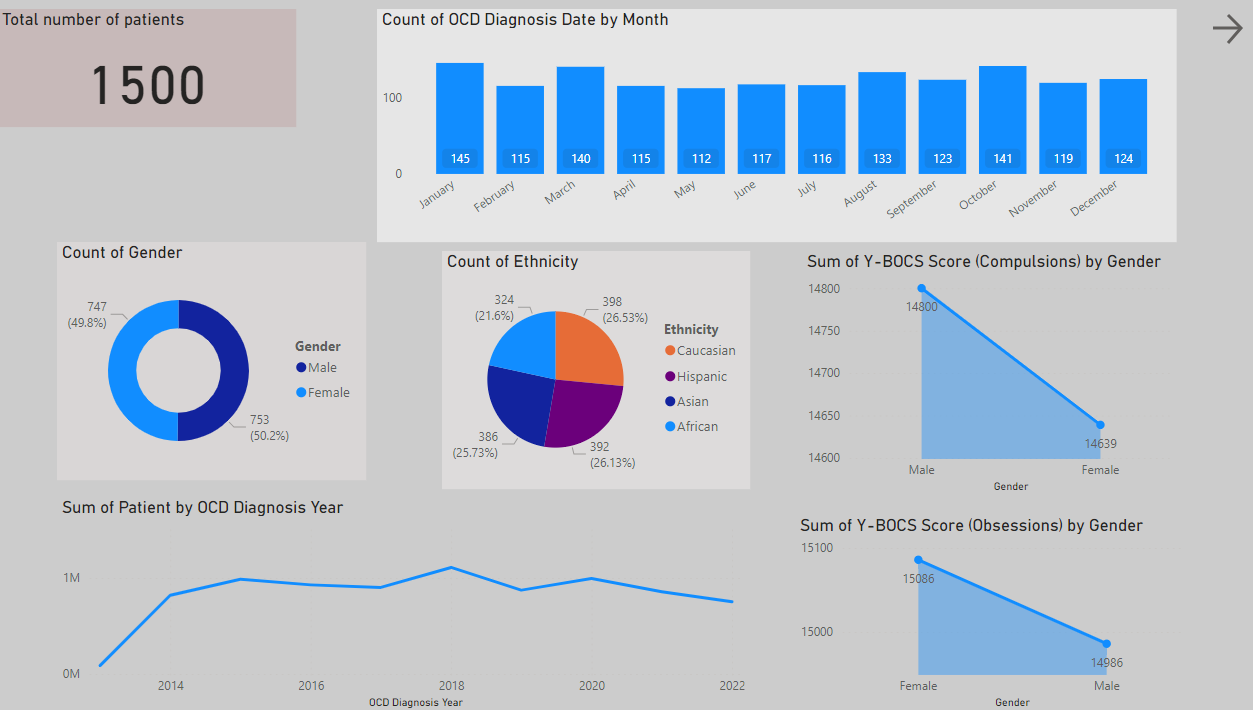

This screenshot's page, from the dashboard's own definition file:
{"tool":"powerbi","page":{"name":"EDA I - II","canvas":[1280,720],"ordinal":0},"visuals":[{"type":"lineChart","title":"Sum of Patient by OCD Diagnosis Year","fields":{"Y":["Sum(ocd_patient_dataset.Patient ID)"],"Category":["ocd_patient_dataset.OCD Diagnosis Year"]},"box":[10,504.6,697.5,215.8],"z":0},{"type":"donutChart","title":"Count of Gender","fields":{"Category":["ocd_patient_dataset.Gender"],"Y":["CountNonNull(ocd_patient_dataset.Gender)"]},"box":[10,258.8,308.8,237.8],"z":1},{"type":"pieChart","title":"Count of Ethnicity","fields":{"Category":["ocd_patient_dataset.Ethnicity"],"Y":["CountNonNull(ocd_patient_dataset.Ethnicity)"]},"box":[454.6,258.8,307.8,237.8],"z":2},{"type":"card","title":"Total number of patients","fields":{"Values":["CountNonNull(ocd_patient_dataset.Patient ID)"]},"box":[10,17,298.8,117.9],"z":3},{"type":"clusteredColumnChart","fields":{"Category":["ocd_patient_dataset (2).OCD Diagnosis Date.Variation.Date Hierarchy.Month"],"Y":["CountNonNull(ocd_patient_dataset (2).OCD Diagnosis Date)"]},"box":[389.7,17,799.4,232.8],"z":4},{"type":"areaChart","fields":{"Category":["ocd_patient_dataset.Gender"],"Y":["Sum(ocd_patient_dataset.Y-BOCS Score (Compulsions))"]},"box":[814.4,258.8,374.7,245.8],"z":5},{"type":"areaChart","fields":{"Y":["Sum(ocd_patient_dataset (2).Y-BOCS Score (Obsessions))"],"Category":["ocd_patient_dataset (2).Gender"]},"box":[807.4,522.6,391.7,197.8],"z":6},{"type":"actionButton","box":[1219,17,54,40],"z":7}]}

Visuals, with their boxes in screenshot pixels (x1, y1, x2, y2), scaled from the page's 1280x720 canvas onto the 1253x710 screenshot:
"Sum of Patient by OCD Diagnosis Year" lineChart: [10,498,693,709]
"Count of Gender" donutChart: [10,255,312,490]
"Count of Ethnicity" pieChart: [445,255,746,490]
"Total number of patients" card: [10,17,302,133]
clusteredColumnChart - ocd_patient_dataset (2).OCD Diagnosis Date.Variation.Date Hierarchy.Month x CountNonNull(ocd_patient_dataset (2).OCD Diagnosis Date): [381,17,1164,246]
areaChart - ocd_patient_dataset.Gender x Sum(ocd_patient_dataset.Y-BOCS Score (Compulsions)): [797,255,1164,498]
areaChart - Sum(ocd_patient_dataset (2).Y-BOCS Score (Obsessions)) x ocd_patient_dataset (2).Gender: [790,515,1174,709]
actionButton: [1193,17,1246,56]
